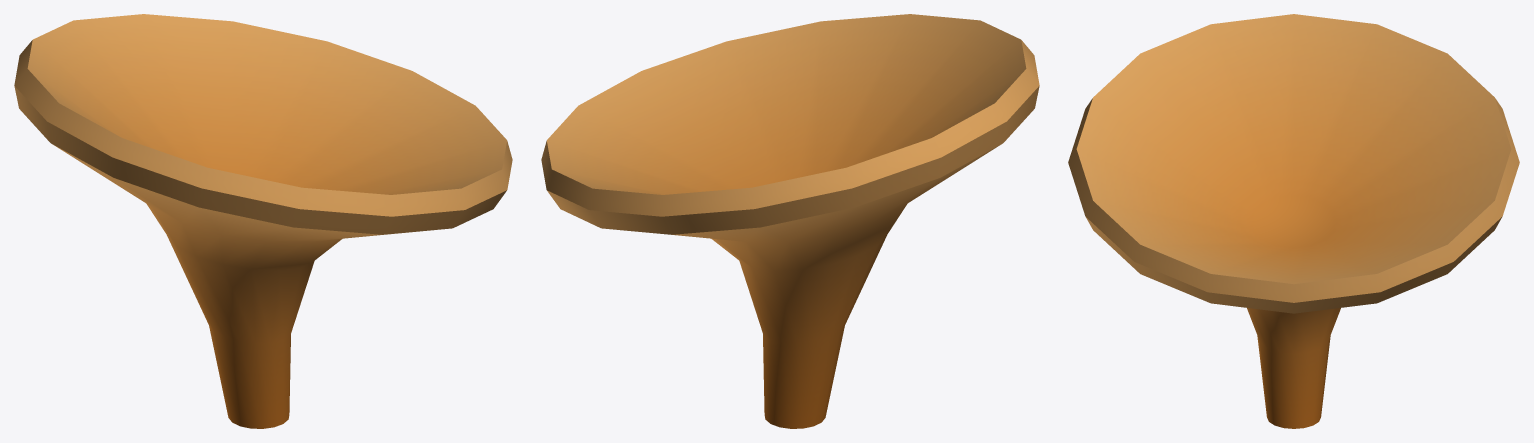
The model's file is Mushoom_01.fbx.
The picture shows the model from 3 angles, left to right: view 1: azimuth 30°, elevation 25°; view 2: azimuth 150°, elevation 25°; view 3: azimuth 270°, elevation 25°; orthographic projection. The views are drawn at different scales.
Parts seen in each view (by area): view 1: Mushoom_01_LOD0; view 2: Mushoom_01_LOD0; view 3: Mushoom_01_LOD0.
Part boxes in pixels (x1,y1,x2,y2): Mushoom_01_LOD0: (14, 14, 512, 428); Mushoom_01_LOD0: (541, 14, 1039, 428); Mushoom_01_LOD0: (1068, 14, 1519, 428).
Size of what is drawn, in the model's own units: 0.1985 by 0.1584 by 0.2041.
